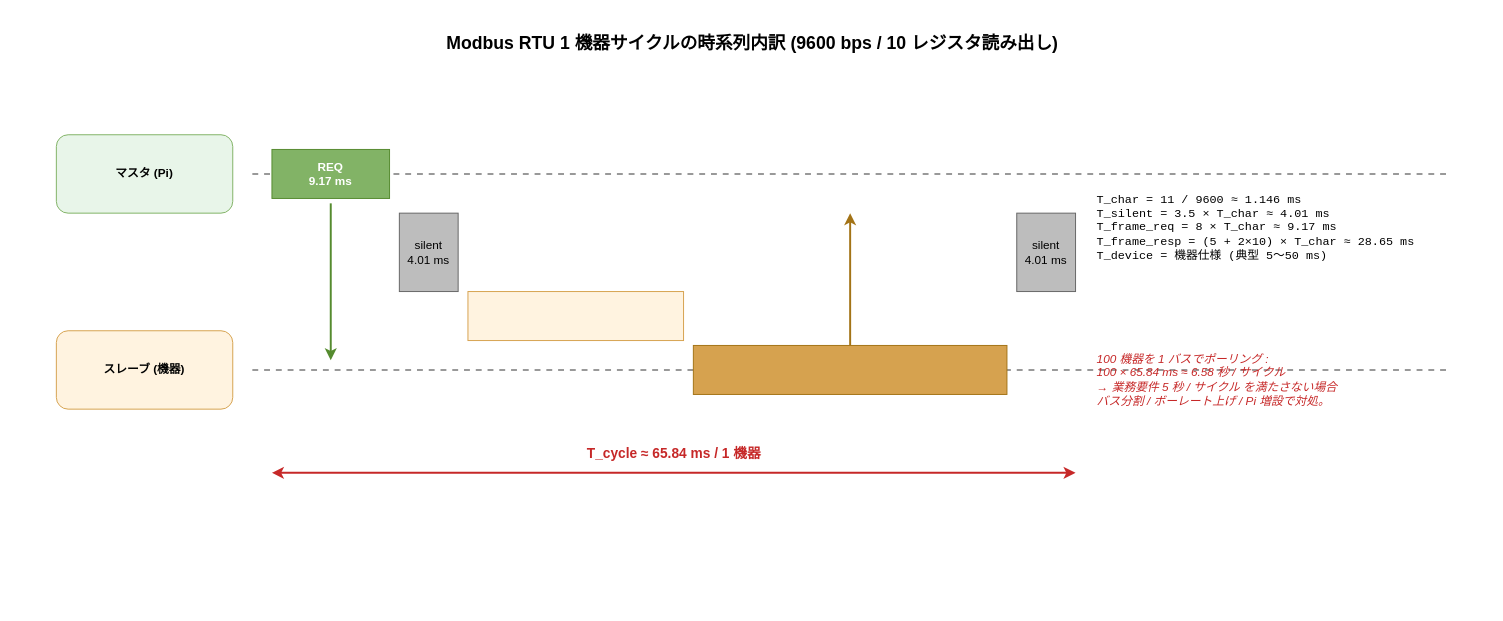
Some shapes in this 1503 by 621 pixel diagram are drawn without their labels. Here are the shapes that lost their labels. From the top down, the box of each, then its label:
(467, 291, 684, 341): 機器応答遅延 20.00 ms
(692, 344, 1007, 394): RESP 28.65 ms
